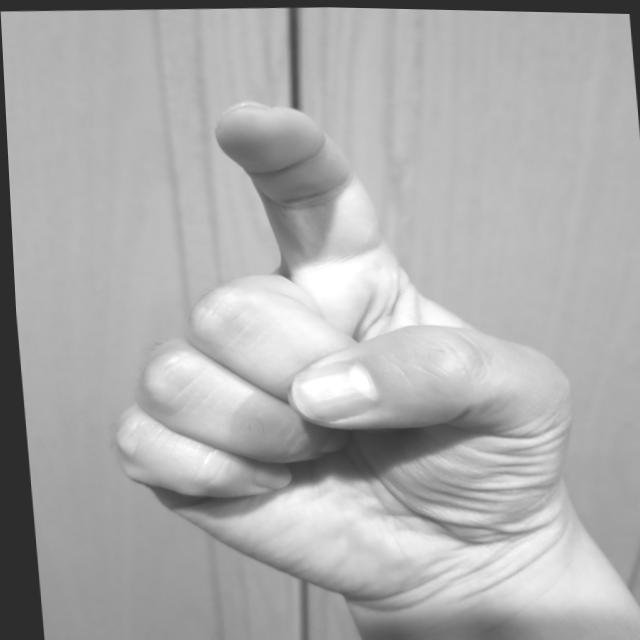X: (72, 79, 596, 621)
